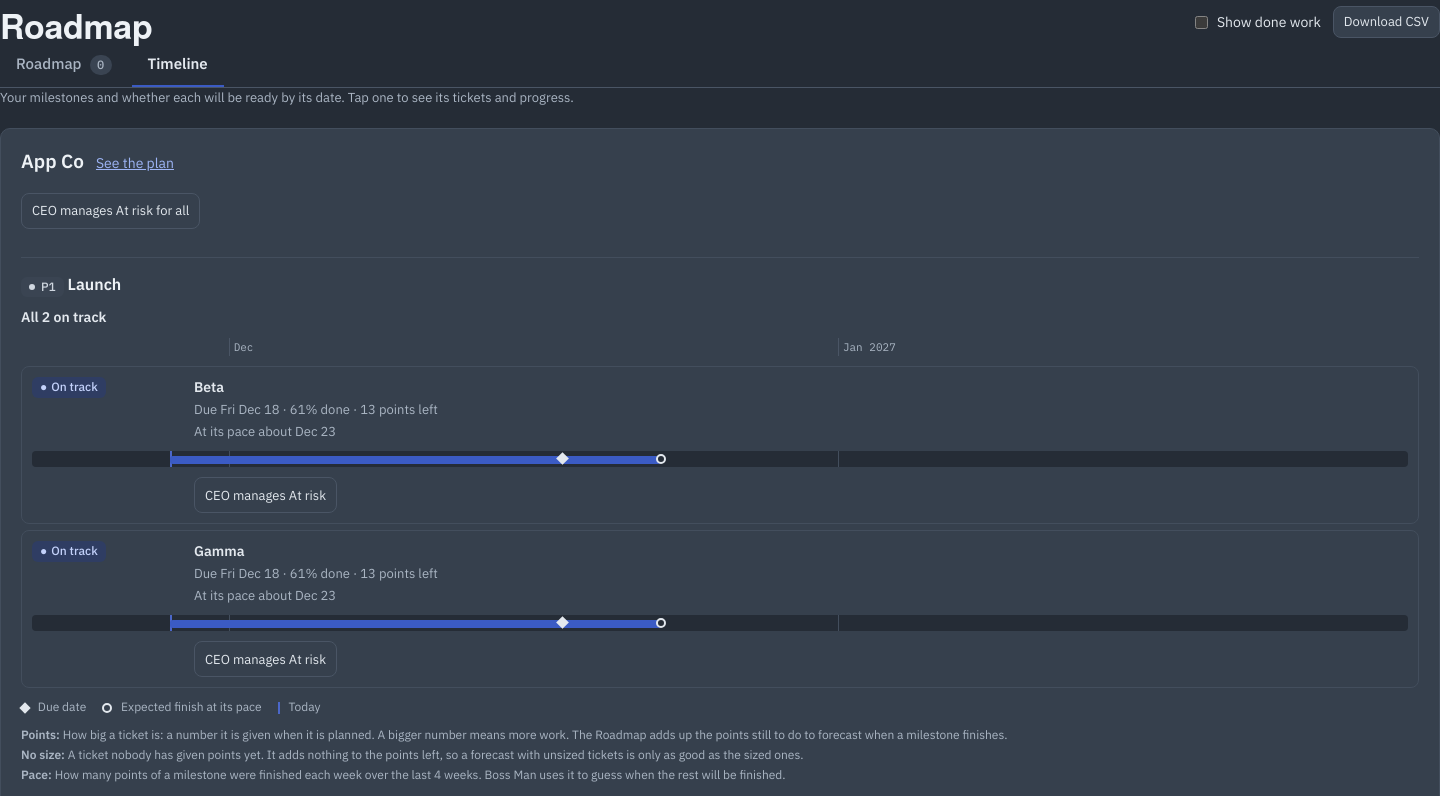
Test: milestone rows (BOS-2560) › opens a row to show its labelled chart, and says so when there is too little history
Click the 3rd button at [720, 422], box [22,367,1418,477]
(page scrolled)
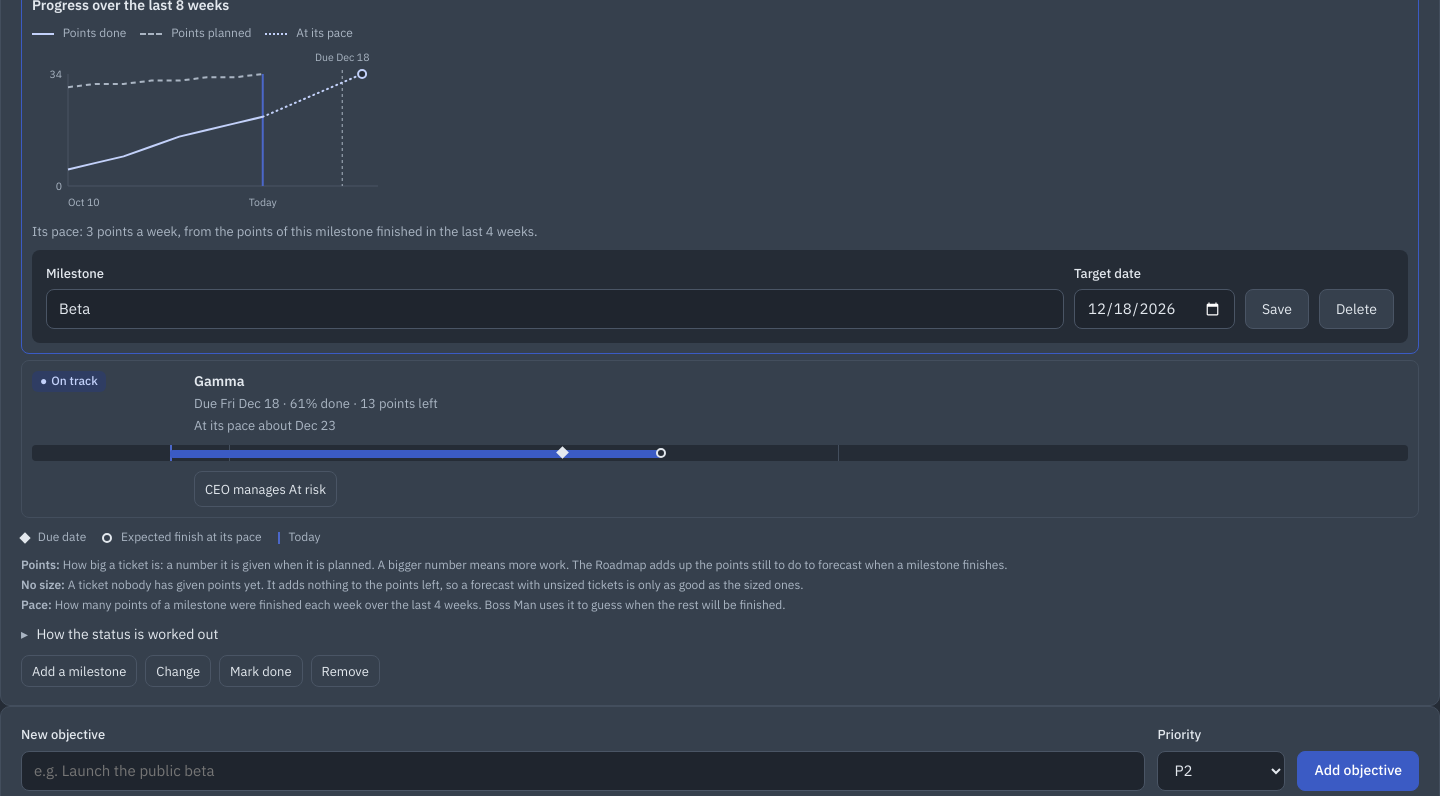
Check: the picture named "Points done rose from 5 to 21 over 8 weeks; planned rose from 30 to 34" is shown, box [32,50,392,214]
Check: the text "Its pace: 3 points a week" is shown, box [32,223,538,240]
Click the button that starts with "On track" at [720, 416], box [22,361,1418,471]
(page scrolled)
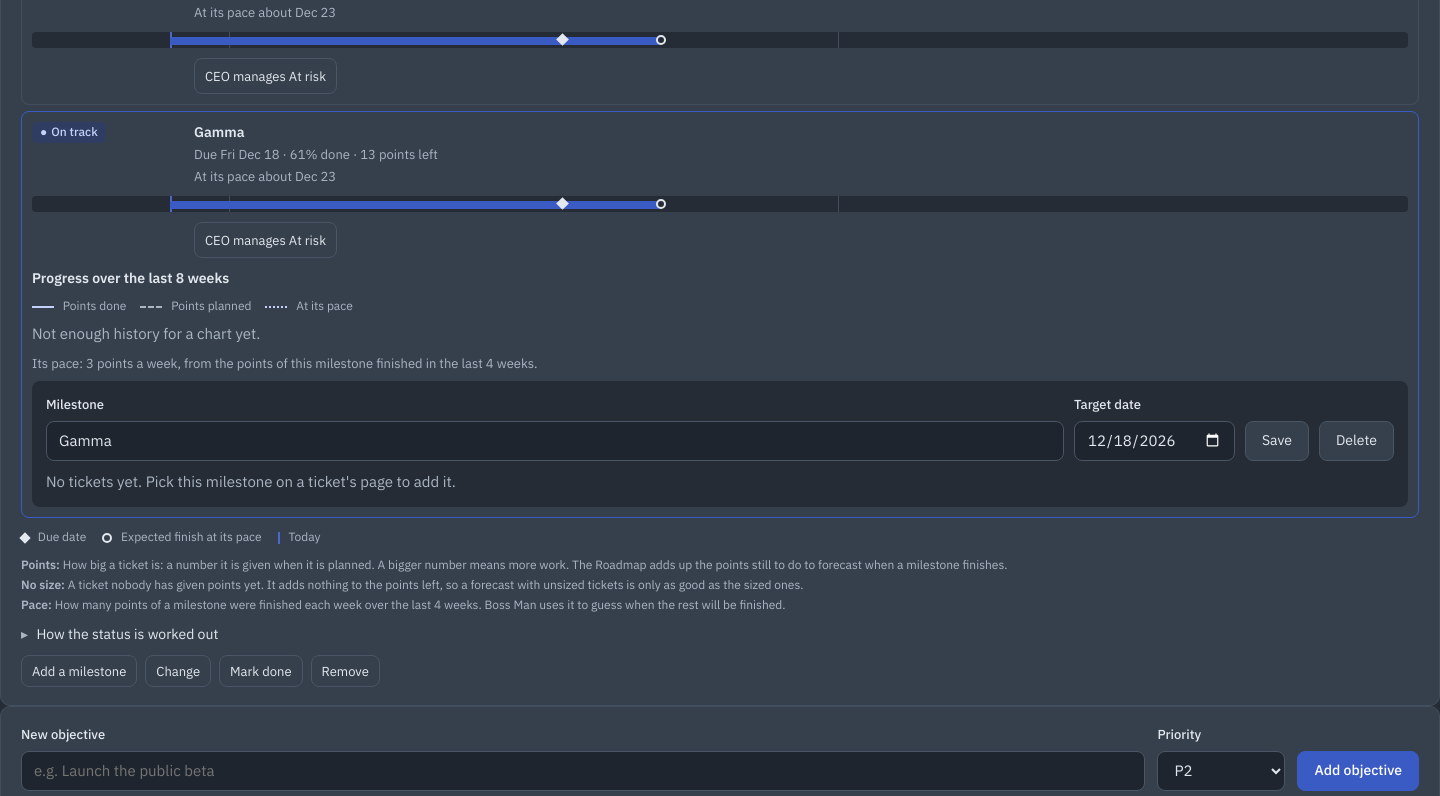
Check: the text "Not enough history for a chart yet." is shown, box [32,324,260,343]
